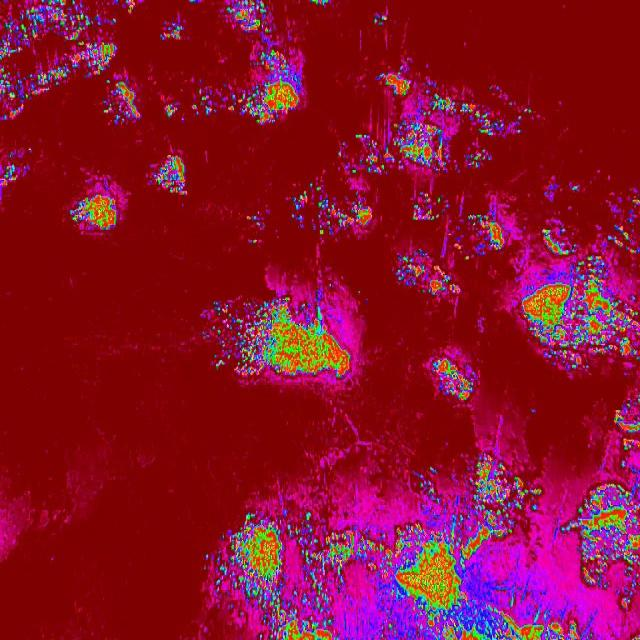fire: (219, 510, 640, 640), (355, 64, 538, 174), (0, 0, 145, 128), (520, 251, 640, 373), (203, 292, 355, 383), (416, 454, 640, 510), (215, 0, 304, 118), (412, 191, 522, 253), (292, 159, 380, 236), (541, 186, 640, 250), (398, 249, 469, 302), (64, 183, 127, 235), (434, 355, 484, 400), (603, 400, 640, 456), (151, 154, 193, 198)
